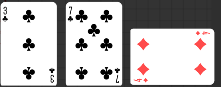3C: (1, 5, 9, 23)
4D: (194, 29, 211, 36)
7C: (113, 66, 121, 84)
